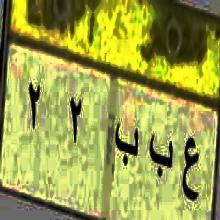2: (22, 71, 44, 147), (66, 90, 86, 158)
ain: (179, 130, 204, 216)
baa: (112, 115, 142, 176), (148, 133, 176, 189)
